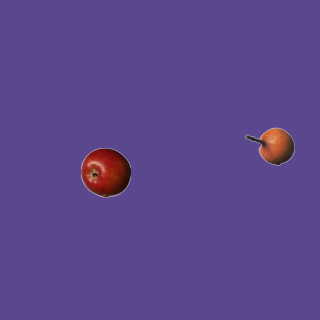Apple Braeburn: (80, 147, 130, 197)
Granadilla: (244, 121, 294, 171)
